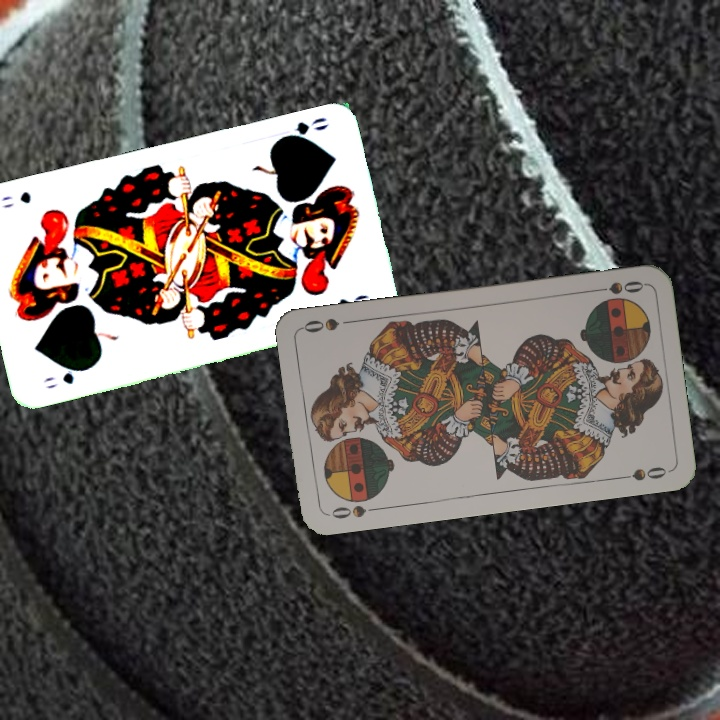GO: (274, 113, 331, 144), (39, 364, 91, 392)
SO: (587, 276, 647, 297), (324, 501, 383, 521)
